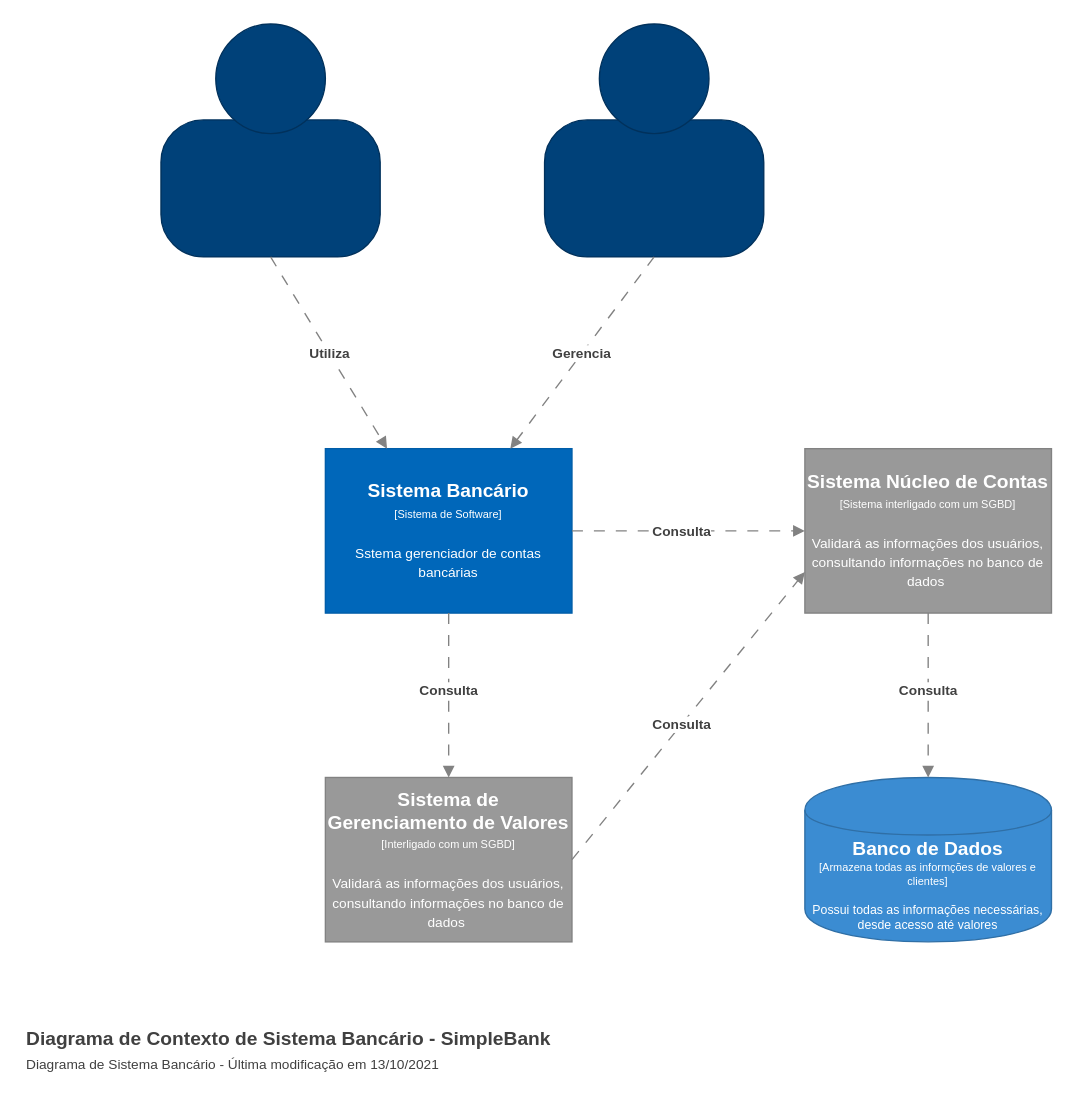
The diagram is 1075 pixels wide and 1103 high, and some of its shapes have lost their labels. Each missing label, with the centre of its shape:
Ciente [Pessoa] Cliente do Banco: pixel 270 188
Gerente [Pessoa] Administrador do Sistema: pixel 653 188
